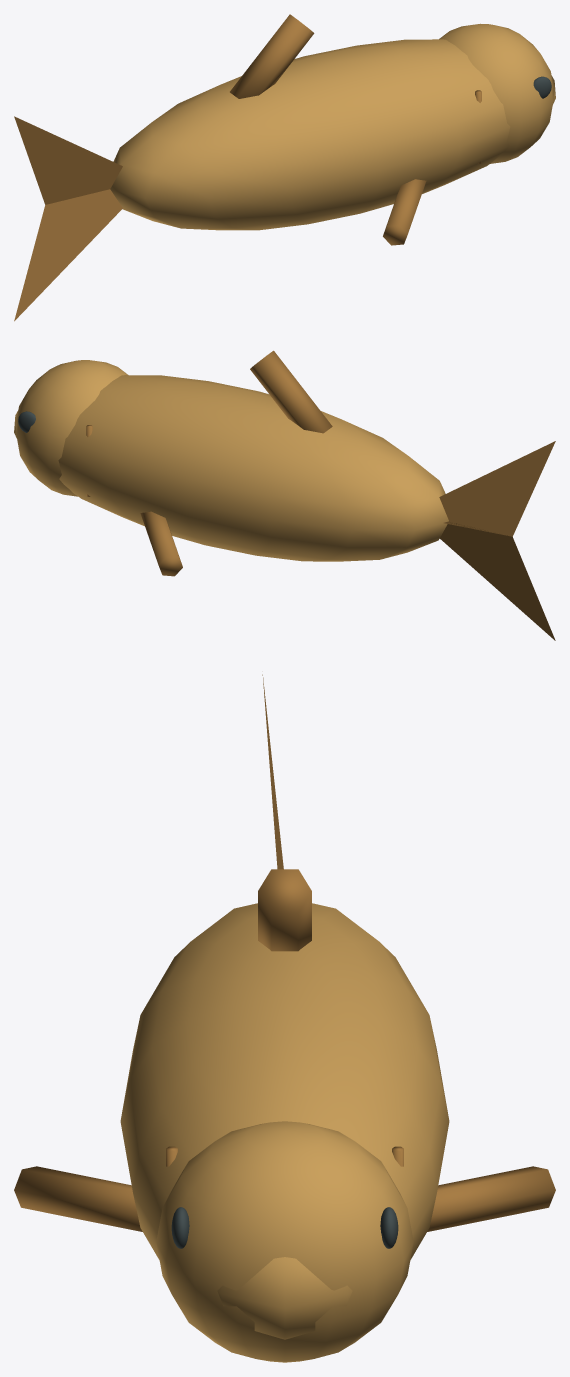
The model's file is site-fish.glb.
3 renders of one model, top to bottom at view 1: azimuth 30°, elevation 25°; view 2: azimuth 150°, elevation 25°; view 3: azimuth 270°, elevation 25°, orthographic. The views are drawn at different scales.
Visible parts, largest first — view 1: site-fish_Copper_fish_scales, site-fish_Translucent_amber_fins; view 2: site-fish_Copper_fish_scales, site-fish_Translucent_amber_fins; view 3: site-fish_Copper_fish_scales, site-fish_Translucent_amber_fins, site-fish_Anthracite_anodized_metal.
Boxes of the visible parts, x1,y1,x2,y2 form: site-fish_Copper_fish_scales: [110, 23, 555, 230]; site-fish_Translucent_amber_fins: [14, 14, 481, 321]; site-fish_Copper_fish_scales: [14, 360, 448, 561]; site-fish_Translucent_amber_fins: [86, 350, 555, 640]; site-fish_Copper_fish_scales: [120, 903, 449, 1362]; site-fish_Translucent_amber_fins: [14, 674, 555, 1231]; site-fish_Anthracite_anodized_metal: [171, 1207, 398, 1248].
Bounding box in the file's own units: 0.724 × 0.291 × 0.3598.
